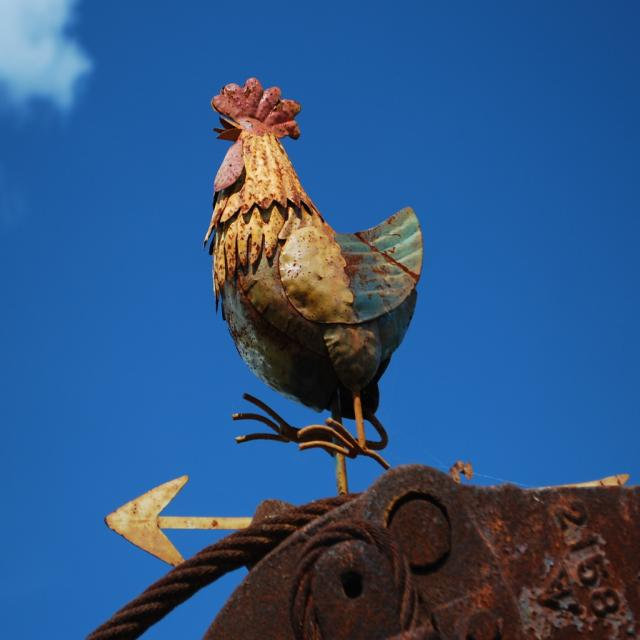Chicken: (202, 77, 430, 480)
